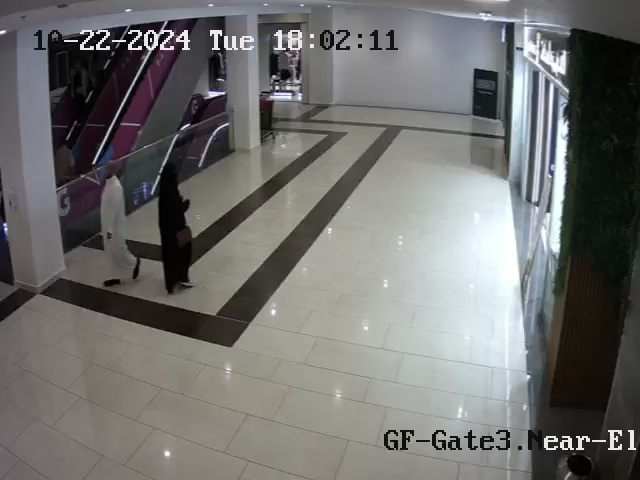female: (160, 159, 198, 294)
male: (85, 160, 149, 295), (55, 136, 80, 178)
